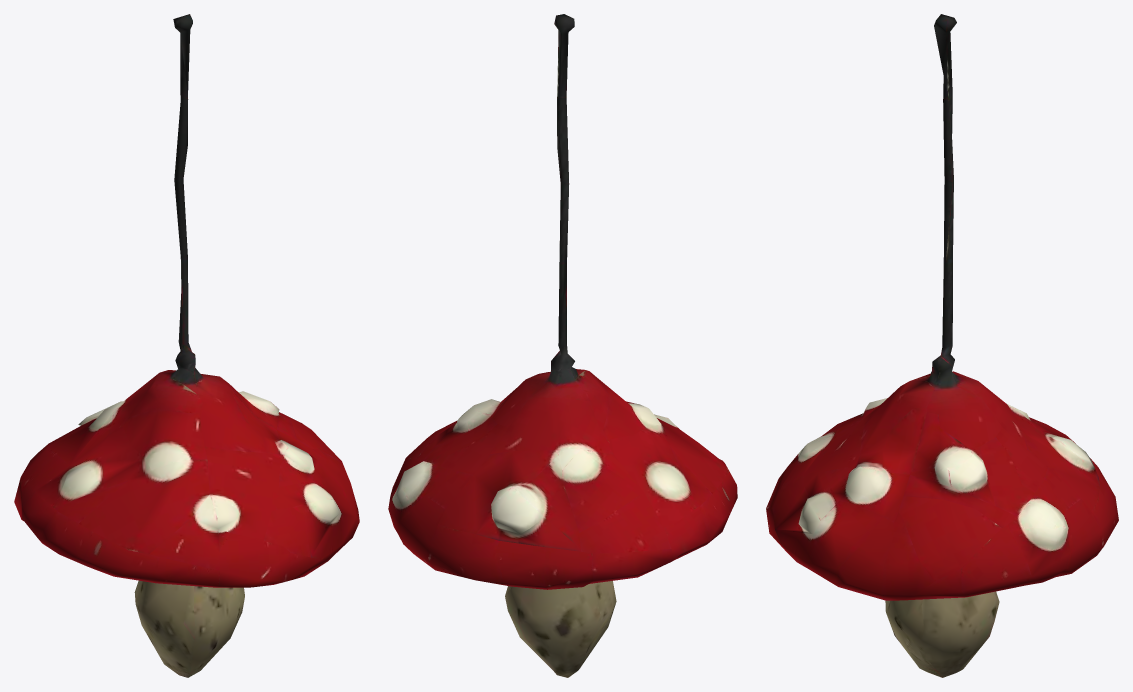
The model's file is mushroom-lamp.glb.
3 views of the same model, side by side, from view 1: azimuth 30°, elevation 25°; view 2: azimuth 150°, elevation 25°; view 3: azimuth 270°, elevation 25° (orthographic).
Bounding box in the file's own units: 0.9034 × 1.89 × 0.9129.
1 material, 1 textured.
